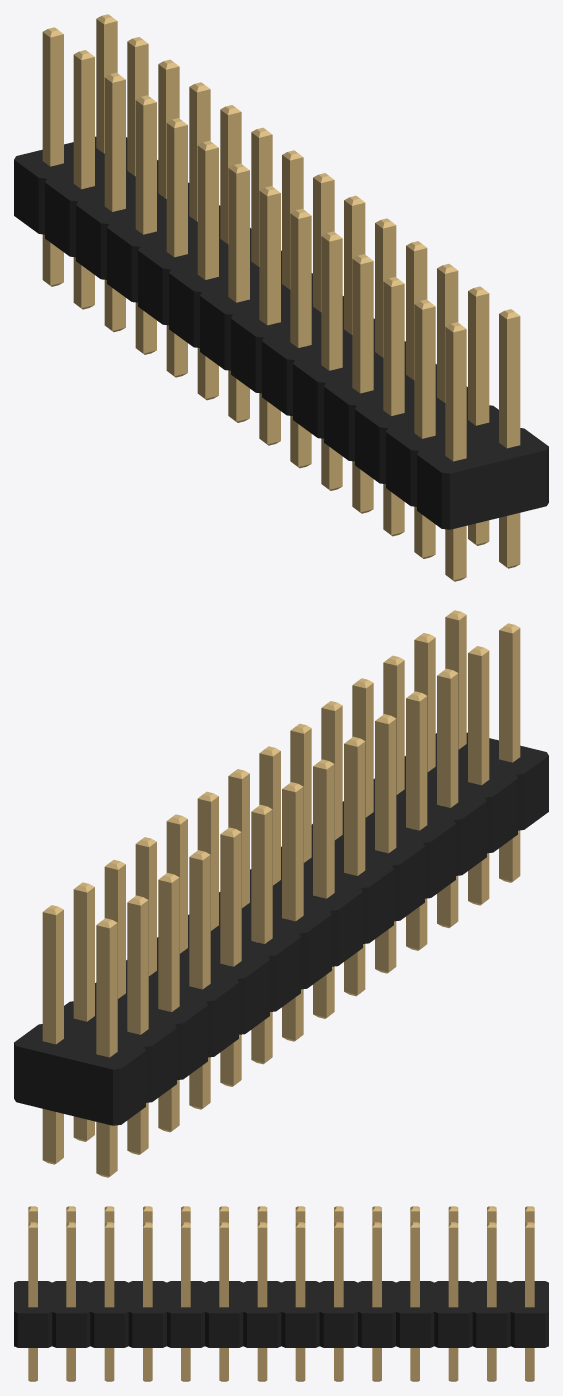
File: kc-pinheader_2x14_p2.54mm_vertical.glb
The picture shows the model from 3 angles, top to bottom: view 1: azimuth 30°, elevation 25°; view 2: azimuth 150°, elevation 25°; view 3: azimuth 270°, elevation 25°; orthographic projection. The views are drawn at different scales.
Visible parts, largest first — view 1: 0.75_0.5_0.25_0.9, 0_0_0_0; view 2: 0.75_0.5_0.25_0.9, 0_0_0_0; view 3: 0_0_0_0, 0.75_0.5_0.25_0.9.
Boxes of the visible parts, <box> form: 0.75_0.5_0.25_0.9: <box>42,14,520,581</box>; 0_0_0_0: <box>14,136,548,529</box>; 0.75_0.5_0.25_0.9: <box>42,610,520,1177</box>; 0_0_0_0: <box>14,732,548,1125</box>; 0_0_0_0: <box>14,1281,548,1347</box>; 0.75_0.5_0.25_0.9: <box>28,1206,534,1381</box>.
Size of the model in its own units: 0.5079 by 1.15 by 3.56.
